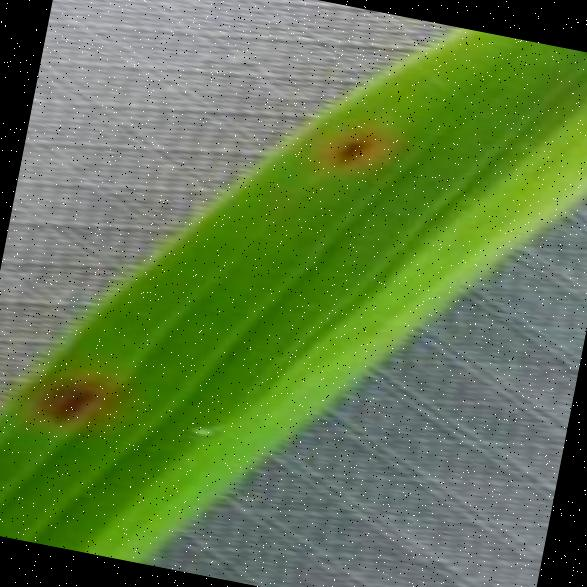Brown_Spot: (17, 348, 118, 442), (312, 108, 391, 182)
